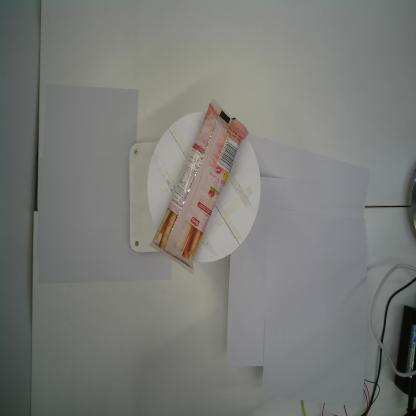Dessert: (144, 96, 250, 276)
